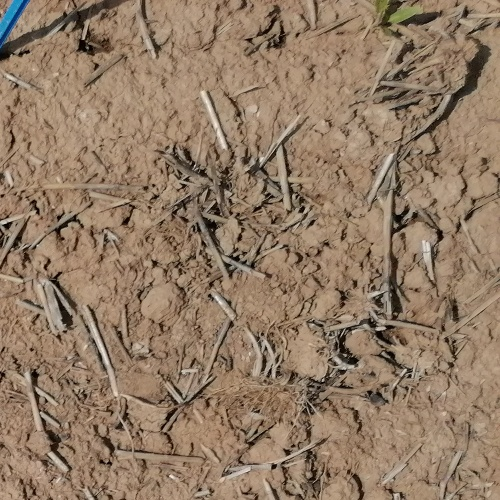beet: (373, 0, 419, 30)
